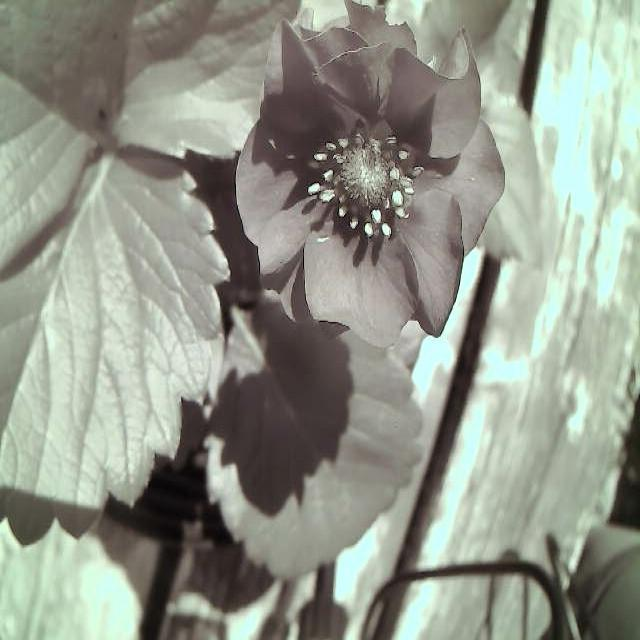flower: (222, 0, 507, 354)
